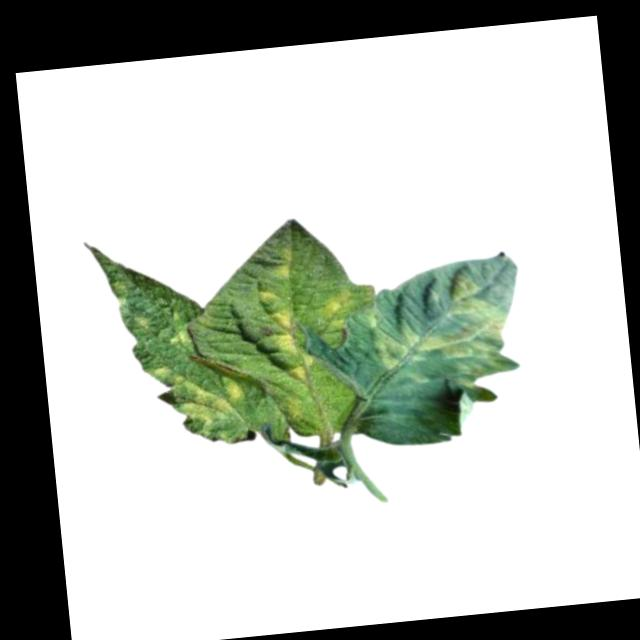Leaf_Mold: (363, 271, 513, 396), (152, 356, 248, 429), (258, 290, 312, 382), (315, 285, 355, 334), (268, 245, 298, 279), (168, 322, 193, 354)
